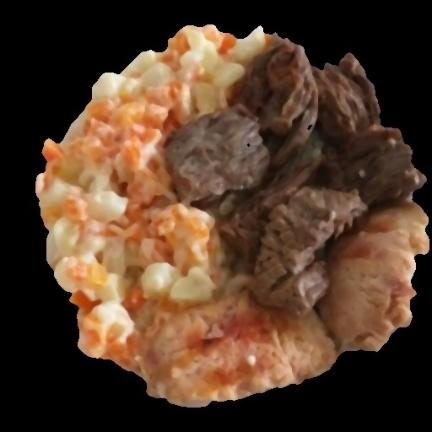meat: (167, 36, 425, 313)
